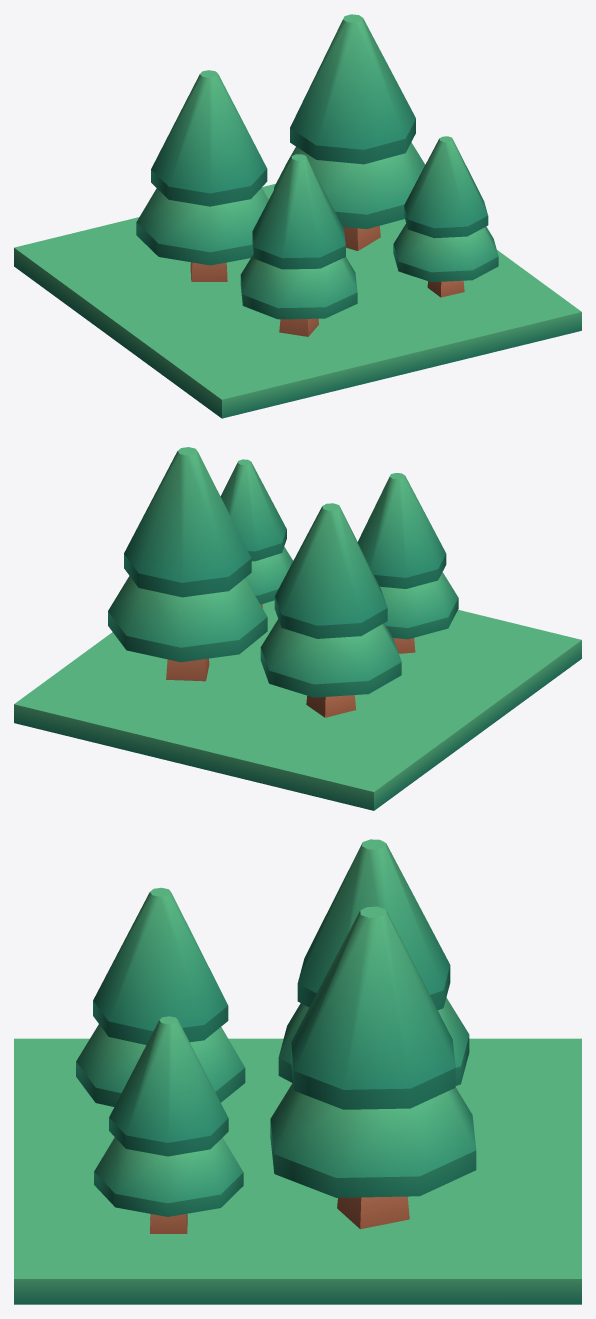
Rendered from grass-trees.glb.
The picture shows the model from 3 angles, top to bottom: view 1: azimuth 30°, elevation 25°; view 2: azimuth 150°, elevation 25°; view 3: azimuth 270°, elevation 25°; orthographic projection. The views are drawn at different scales.
Parts seen in each view (by area): view 1: grass-trees; view 2: grass-trees; view 3: grass-trees.
Boxes of the visible parts, x1,y1,x2,y2 form: grass-trees: [14, 14, 581, 418]; grass-trees: [14, 447, 581, 810]; grass-trees: [14, 839, 581, 1304].
Size of the model in its own units: 1 by 0.6359 by 1.
1 material, 1 textured.
